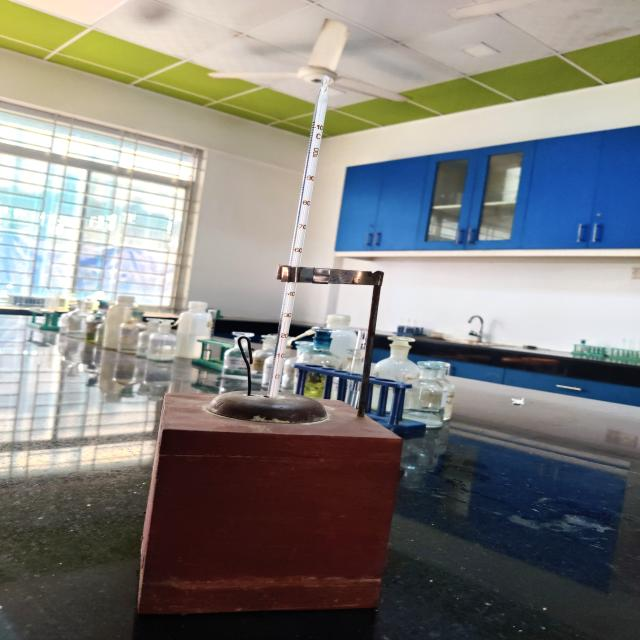Calorimeter: (90, 71, 442, 629)
